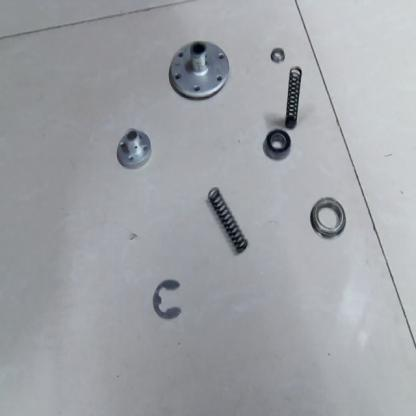FOD: (168, 34, 230, 106), (206, 186, 252, 252), (112, 124, 155, 174), (308, 195, 347, 243), (284, 64, 304, 128), (153, 280, 182, 321), (262, 126, 292, 160), (269, 46, 286, 64)
